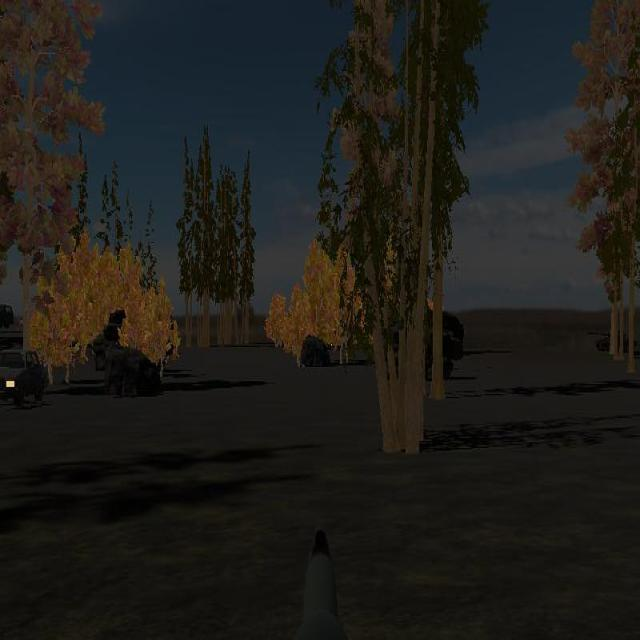car: (0, 347, 46, 407)
